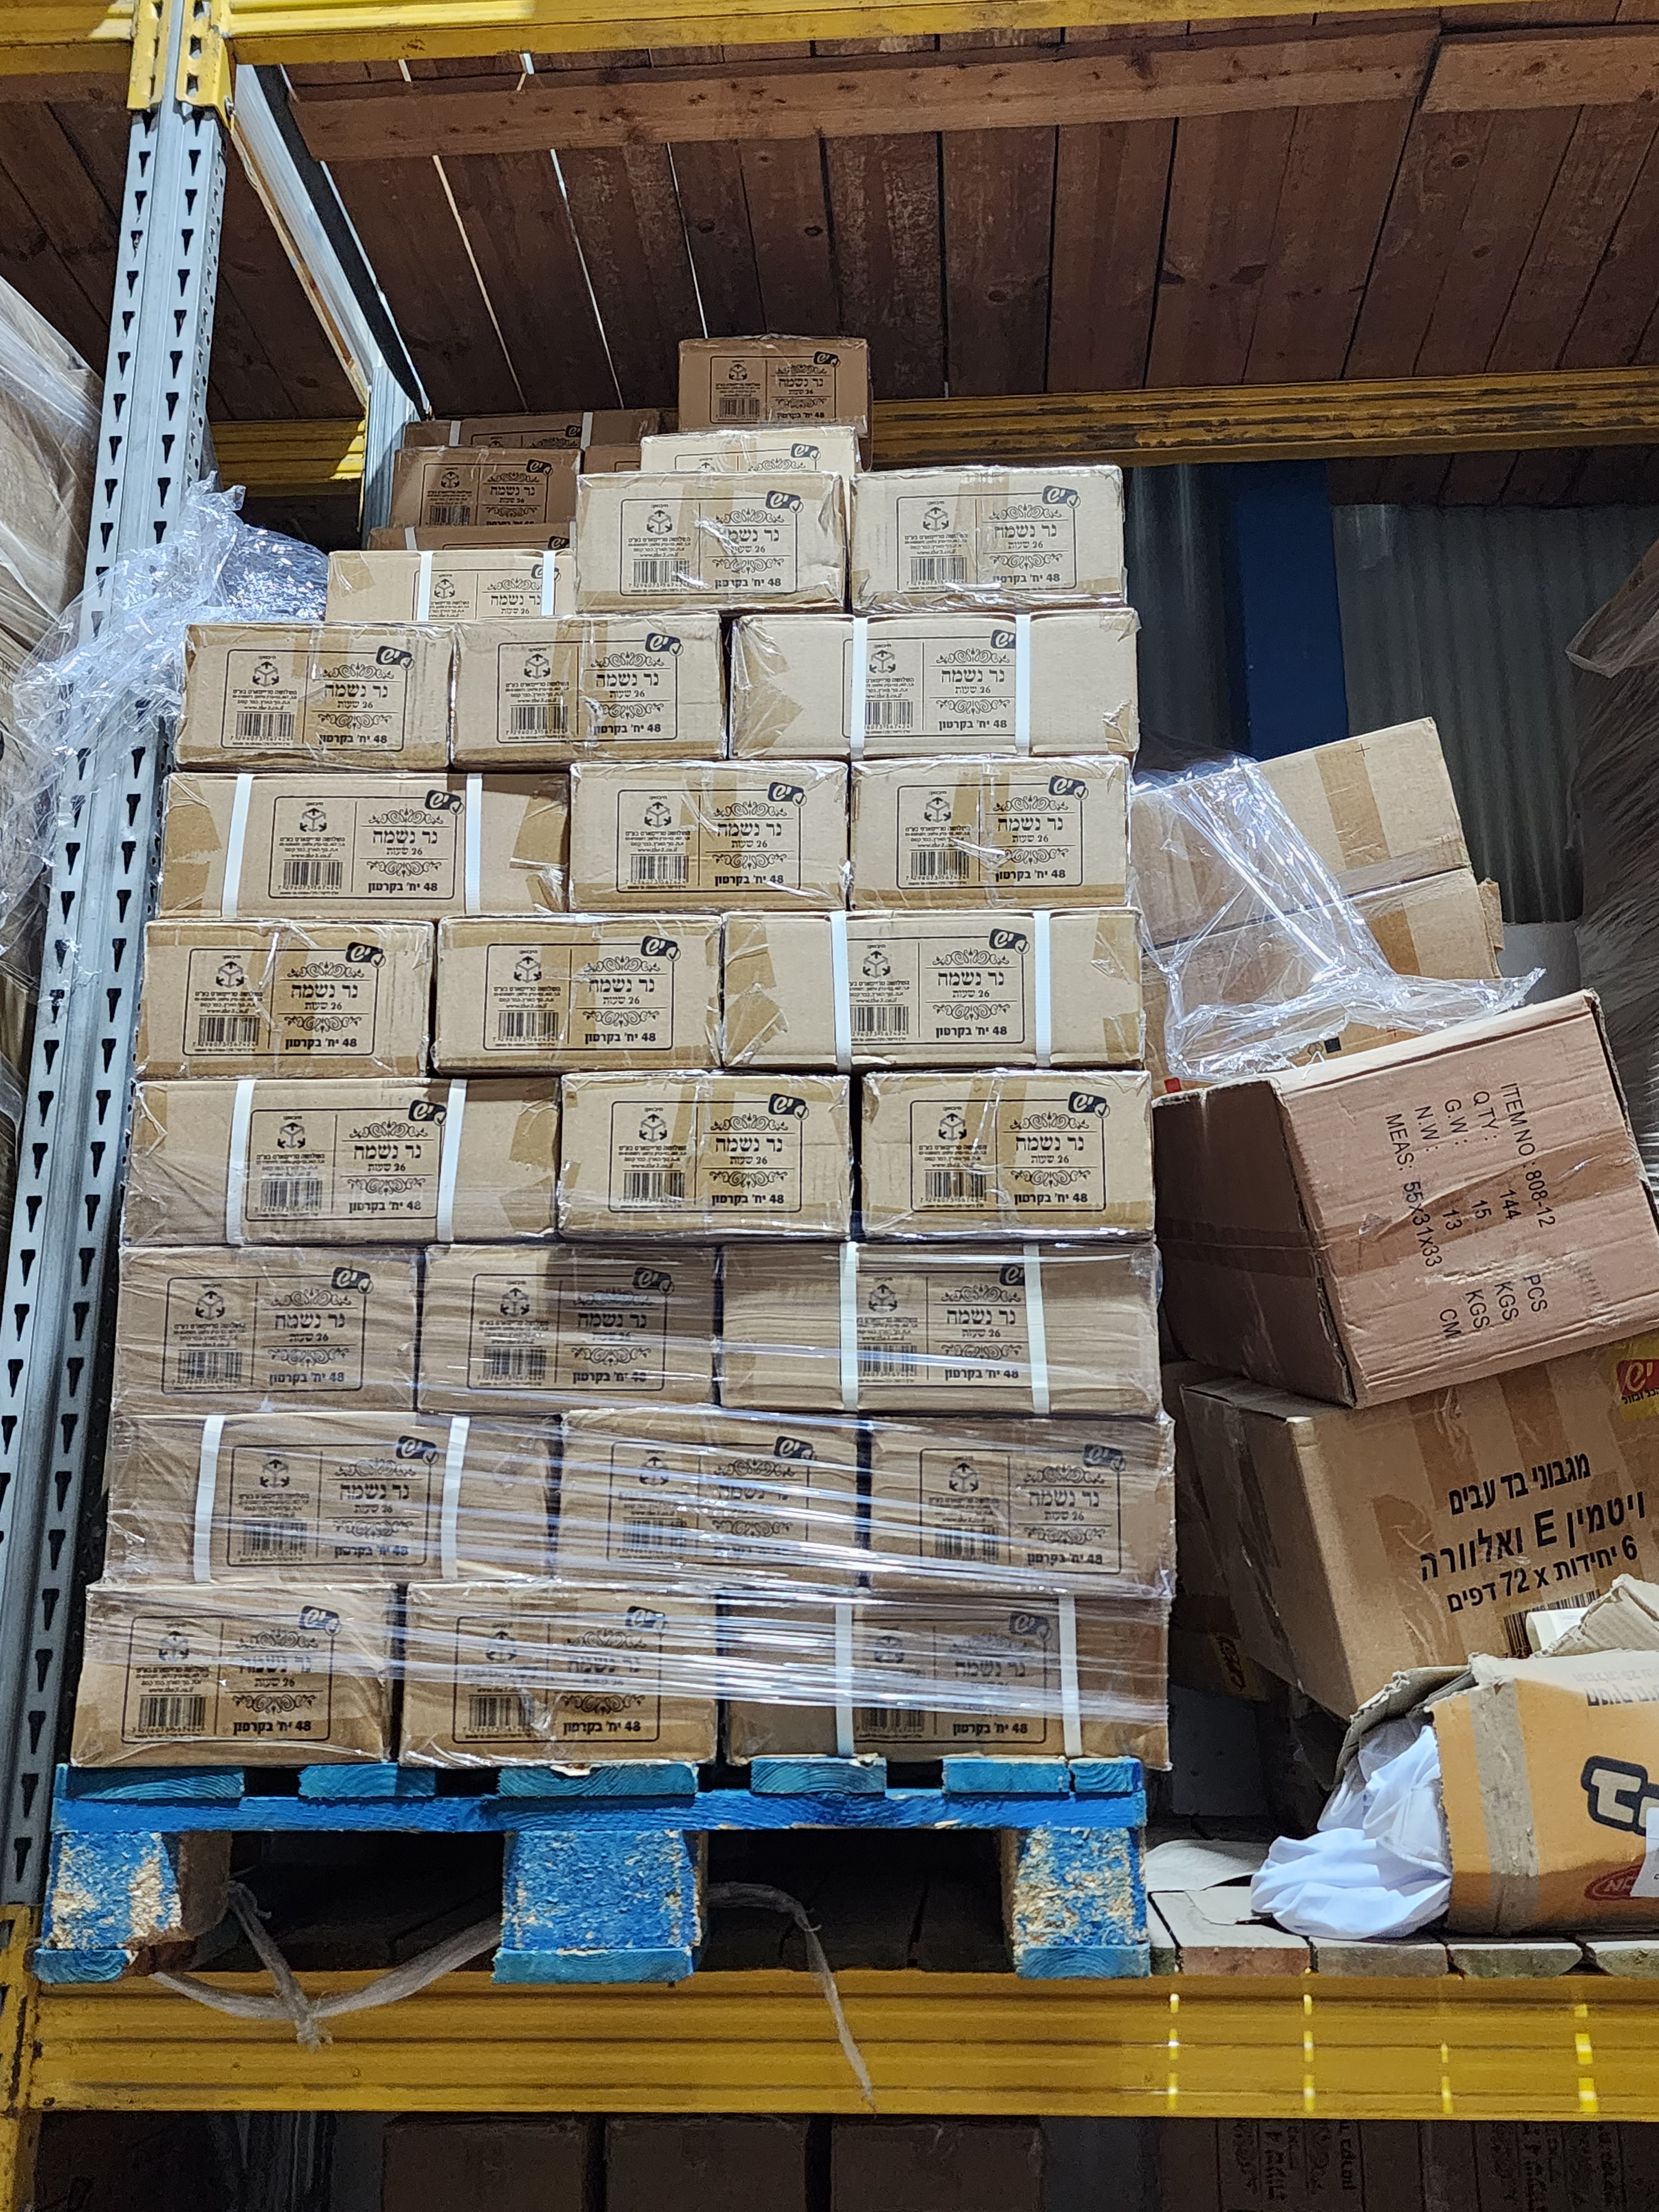box: (1169, 1024, 1643, 1395), (1195, 1350, 1659, 1702), (70, 1383, 577, 1635), (720, 1564, 1237, 1799), (92, 1038, 584, 1271), (366, 1529, 741, 1834), (1136, 745, 1499, 1054), (708, 570, 1192, 798), (711, 1211, 1182, 1435), (718, 885, 1204, 1096), (843, 1008, 1208, 1287), (519, 1042, 899, 1287), (401, 1191, 734, 1467), (547, 1360, 910, 1609), (840, 1386, 1204, 1623), (378, 904, 760, 1125), (103, 1211, 460, 1440), (115, 894, 474, 1122), (54, 1548, 401, 1778), (145, 599, 479, 810), (134, 738, 471, 946), (814, 742, 1150, 934), (538, 435, 857, 634), (551, 742, 866, 930), (843, 446, 1166, 618), (441, 601, 749, 780)
